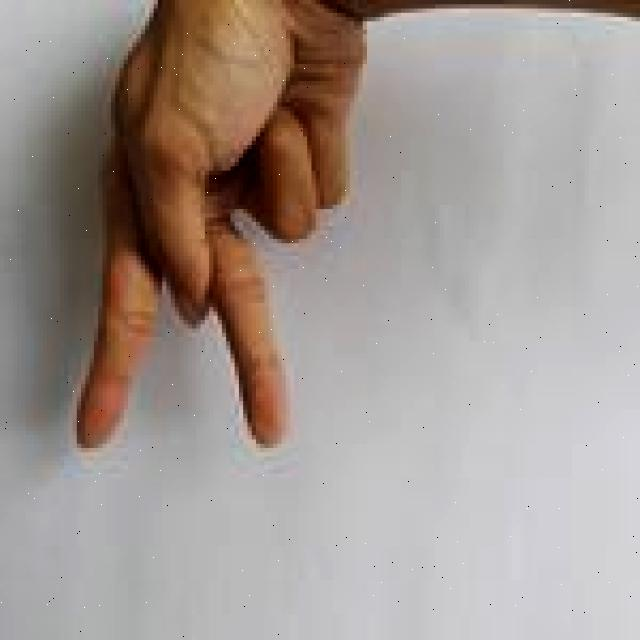P: (65, 0, 374, 463)
